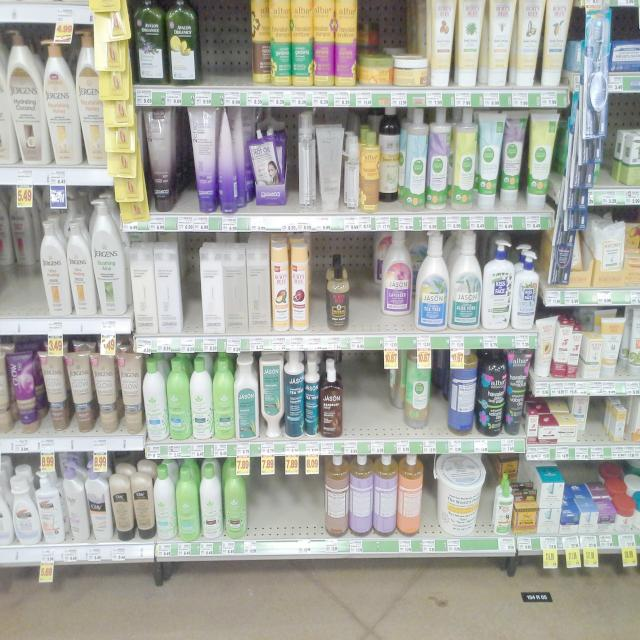empty_space: (256, 479, 316, 535), (207, 11, 245, 74), (353, 371, 385, 425), (8, 263, 40, 314), (180, 251, 200, 329), (358, 247, 378, 322), (311, 252, 325, 320)
